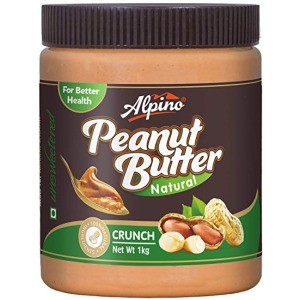peanut butter_brain food: (59, 85, 245, 236)
